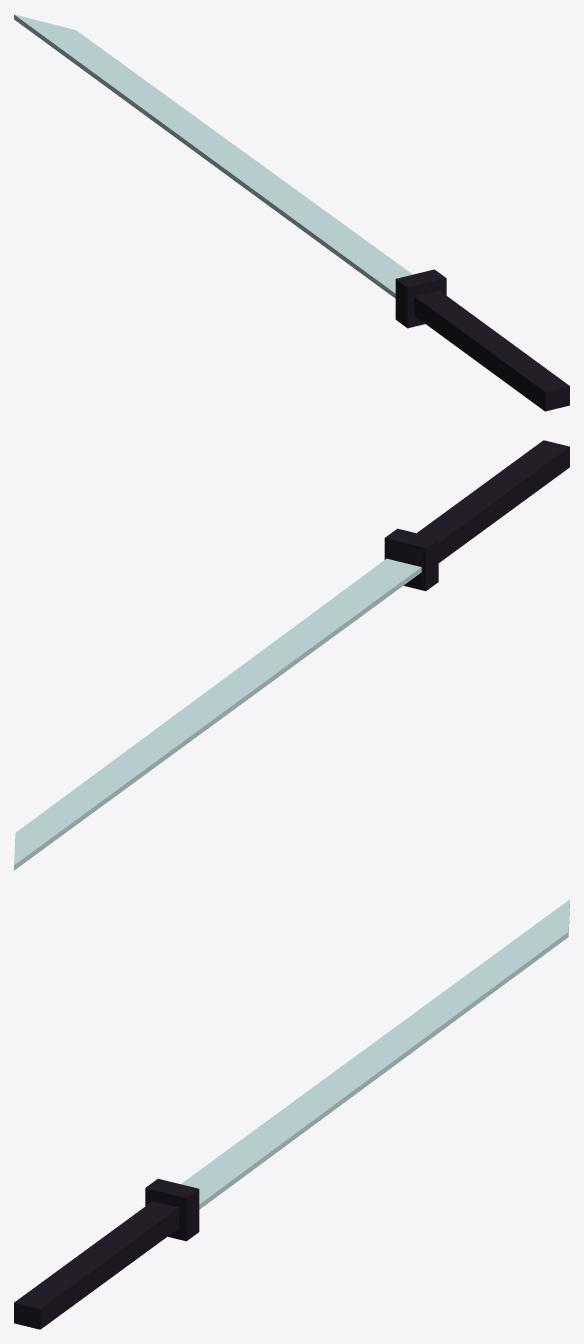
File: Katana.fbx
3 views of the same model, one above another, from view 1: azimuth 30°, elevation 25°; view 2: azimuth 150°, elevation 25°; view 3: azimuth 330°, elevation 25° (orthographic). The views are drawn at different scales.
Visible parts, largest first — view 1: Cube; view 2: Cube; view 3: Cube.
Boxes of the visible parts, x1,y1,x2,y2 form: Cube: (14, 14, 569, 411); Cube: (14, 440, 569, 870); Cube: (14, 899, 569, 1329).
Bounding box in the file's own units: 0.098 × 0.098 × 2.3.
